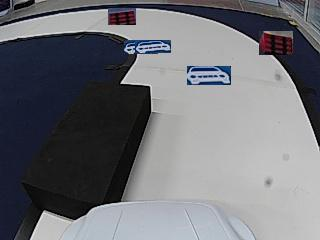block: (26, 83, 149, 213)
